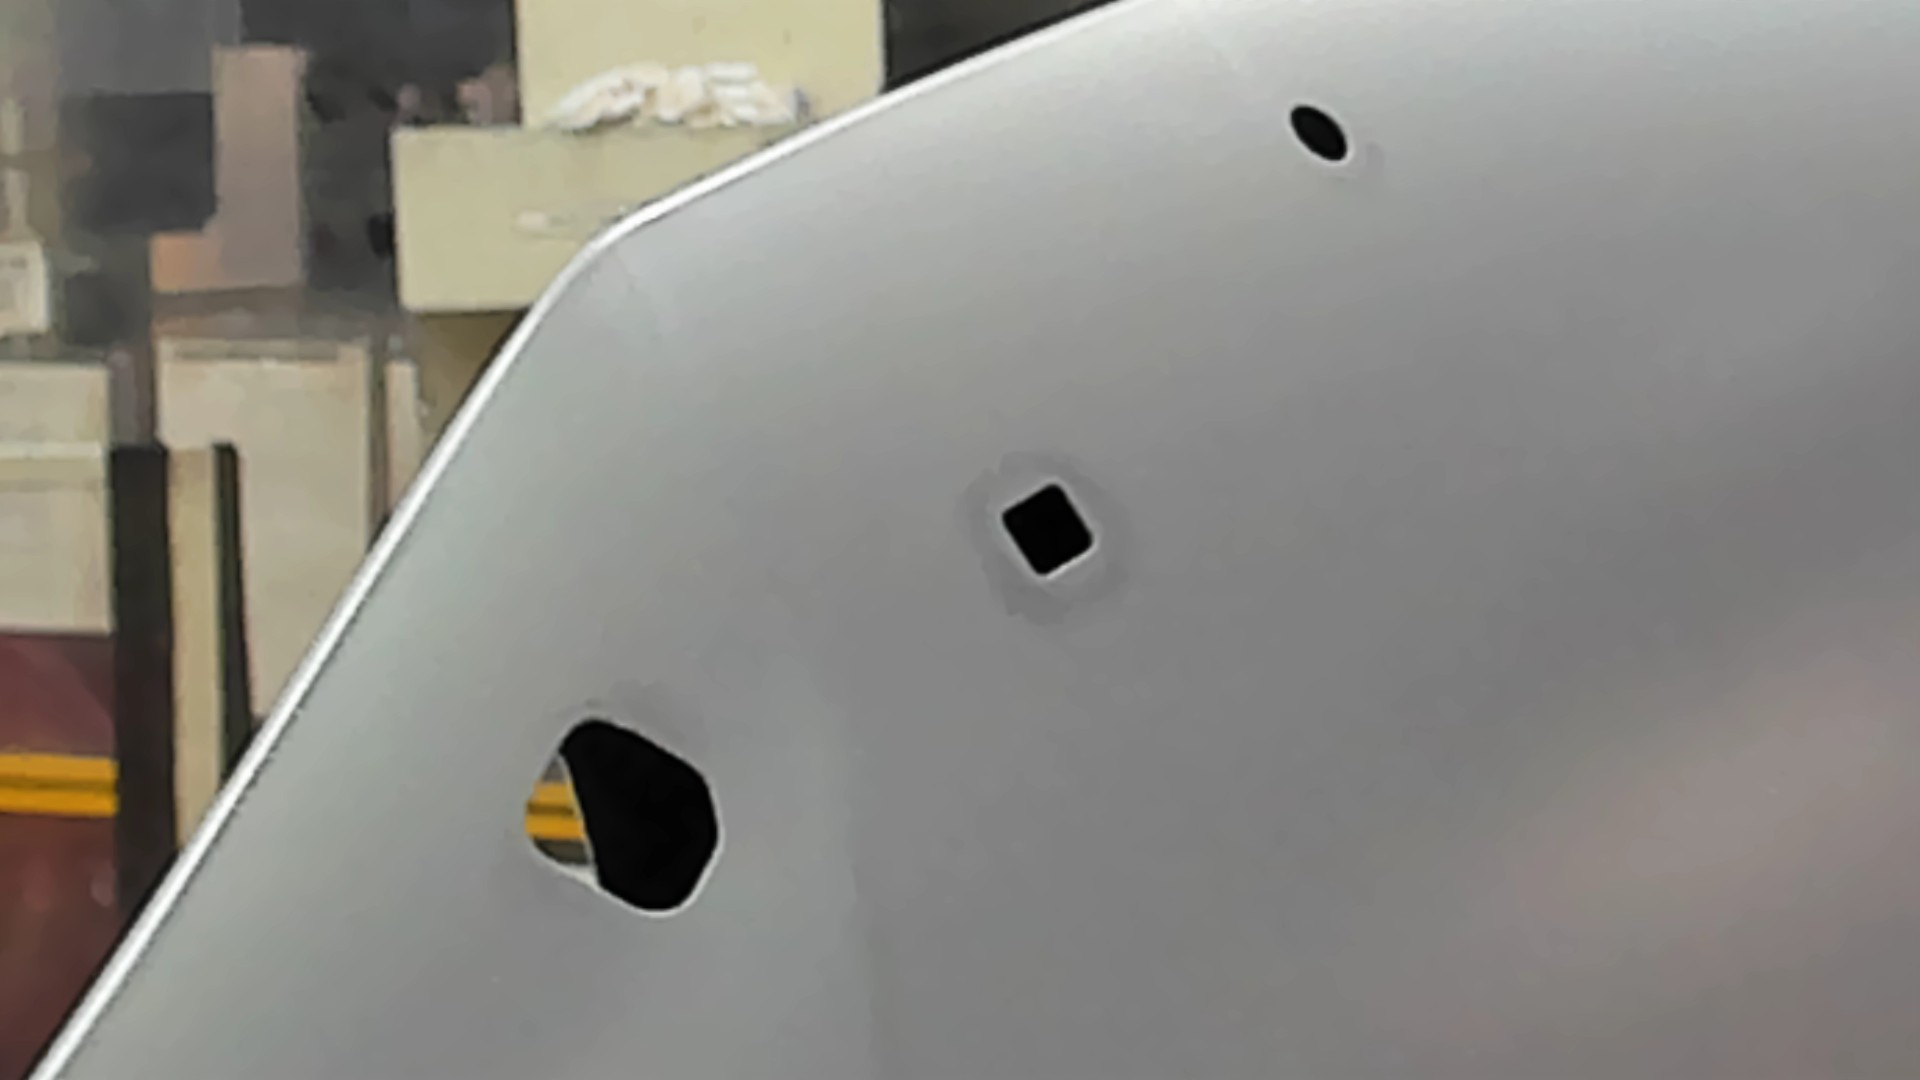chico: (1287, 102, 1354, 167)
grande: (516, 709, 725, 923)
mediano: (996, 476, 1100, 582)
